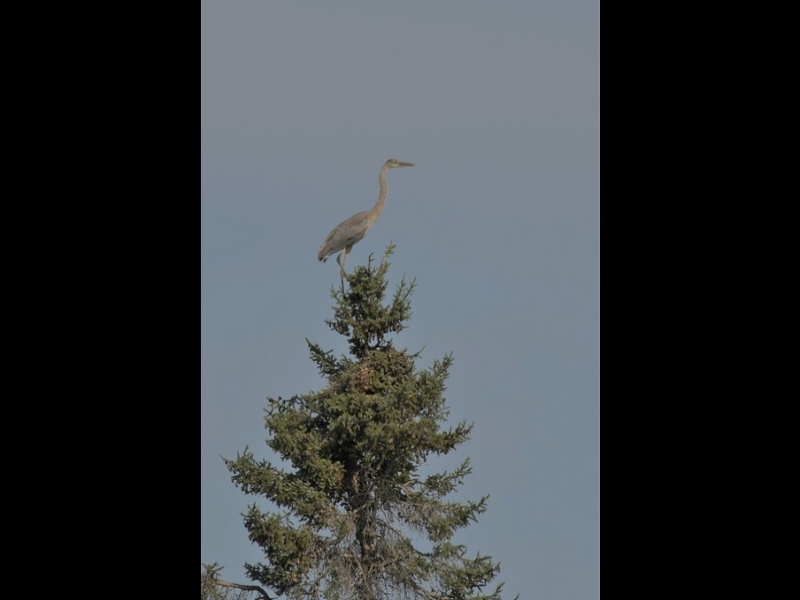heron: (316, 155, 426, 299)
